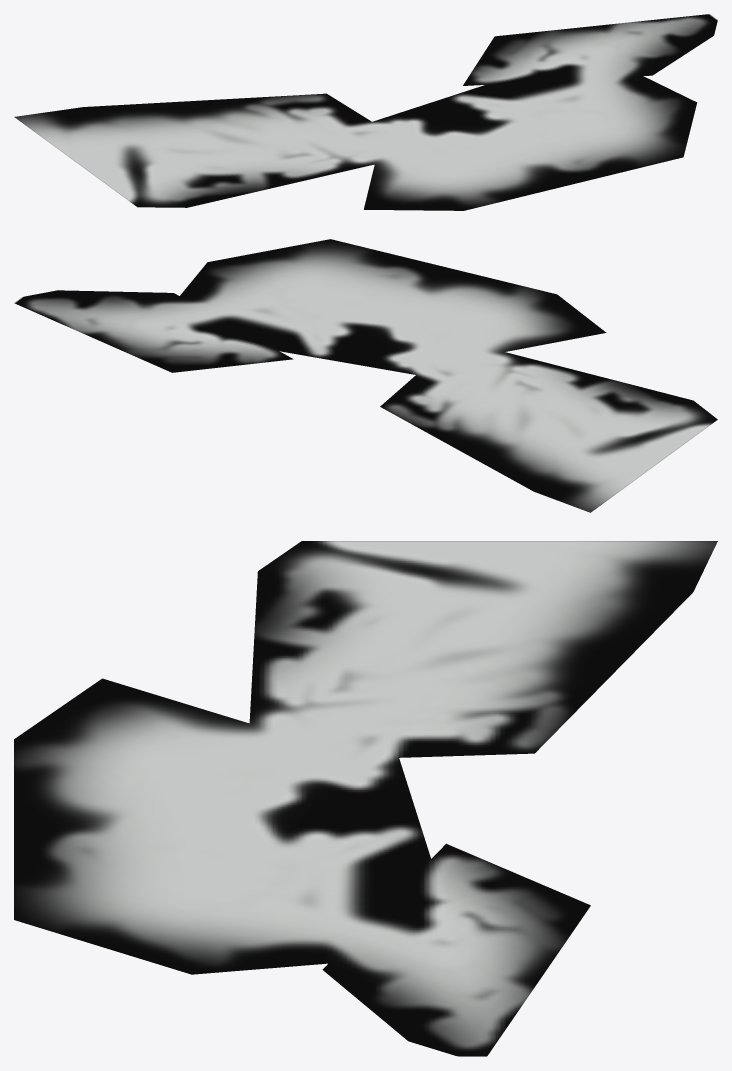
File: scene_eff_1030_03.FBX
3 views of the same model, one above another, from view 1: azimuth 30°, elevation 25°; view 2: azimuth 150°, elevation 25°; view 3: azimuth 270°, elevation 25° (orthographic). The views are drawn at different scales.
Visible parts, largest first — view 1: scene_eff_1030_03; view 2: scene_eff_1030_03; view 3: scene_eff_1030_03.
Boxes of the visible parts, x1,y1,x2,y2 form: scene_eff_1030_03: [14, 14, 717, 210]; scene_eff_1030_03: [14, 239, 717, 512]; scene_eff_1030_03: [14, 541, 717, 1056].
Size of the model in its own units: 237 by 8.37e-15 by 137.
